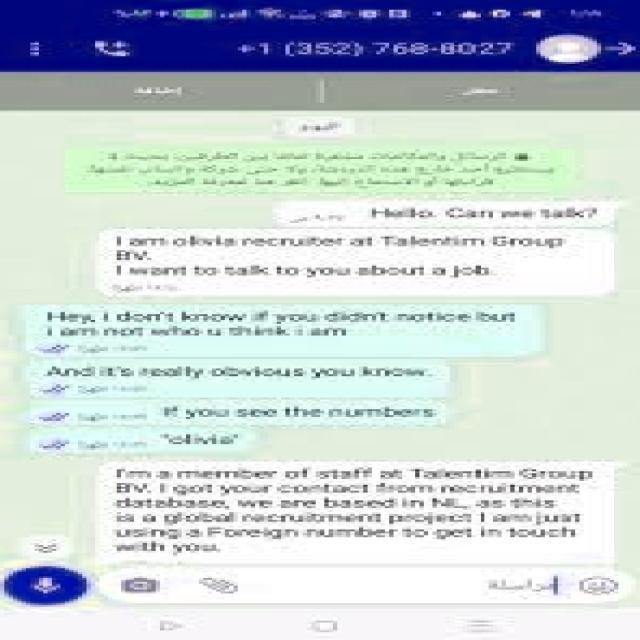scam: (32, 300, 536, 348), (44, 361, 449, 393), (156, 402, 446, 425), (120, 430, 262, 449)
